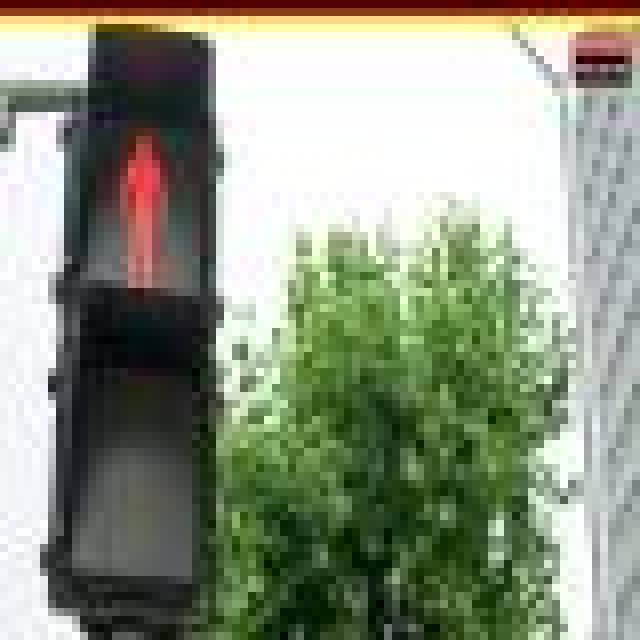redlight: (32, 48, 272, 624)
